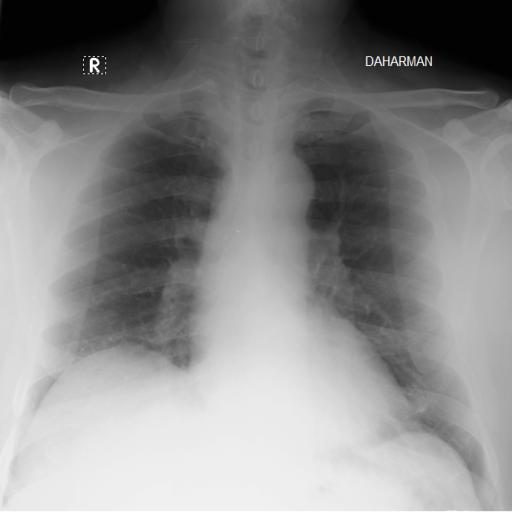kardiomegali: (9, 48, 504, 500)
